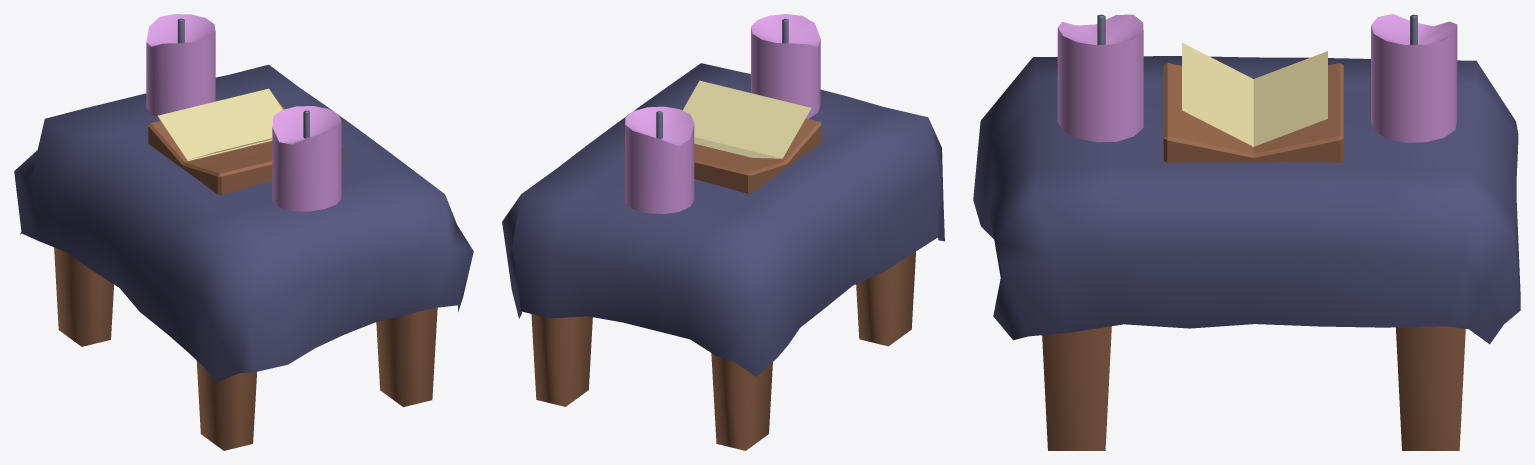
The model's file is SnappingEssenceStation.fbx.
3 views of the same model, side by side, from view 1: azimuth 30°, elevation 25°; view 2: azimuth 150°, elevation 25°; view 3: azimuth 270°, elevation 25° (orthographic). The views are drawn at different scales.
Visible parts, largest first — view 1: SpellTable_GEO; view 2: SpellTable_GEO; view 3: SpellTable_GEO.
Part boxes in pixels (bbox=[...]): SpellTable_GEO: bbox=[14, 14, 473, 450]; SpellTable_GEO: bbox=[502, 14, 944, 450]; SpellTable_GEO: bbox=[973, 14, 1520, 450].
Bounding box in the file's own units: 1.5 × 1.57 × 2.07.
